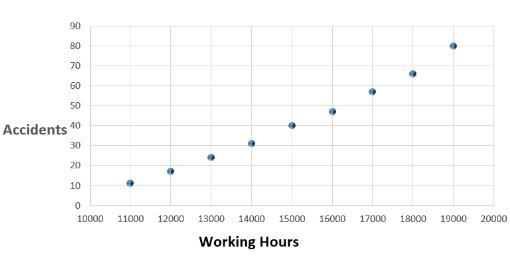axis: (86, 202, 497, 210), (85, 20, 93, 211)
point: (406, 67, 420, 80), (124, 177, 137, 190), (246, 138, 258, 151), (327, 106, 339, 119), (367, 86, 379, 98), (287, 119, 298, 132), (447, 41, 460, 52), (206, 152, 218, 163), (165, 166, 177, 176)
